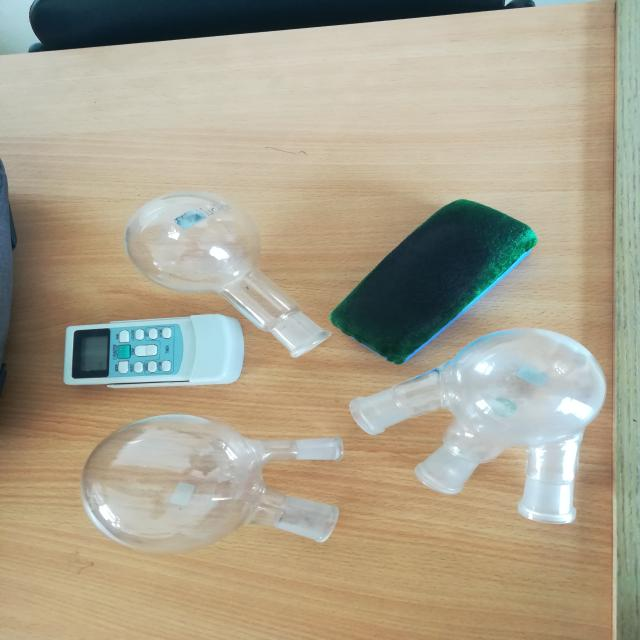Round_Bottom_Flask_Borosilicate_Glass_1_Neck: (97, 170, 339, 360)
Round_Bottom_Flask_Borosilicate_Glass_2_Neck: (67, 394, 359, 573)
Round_Bottom_Flask_Borosilicate_Glass_3_Neck: (349, 301, 640, 538)
